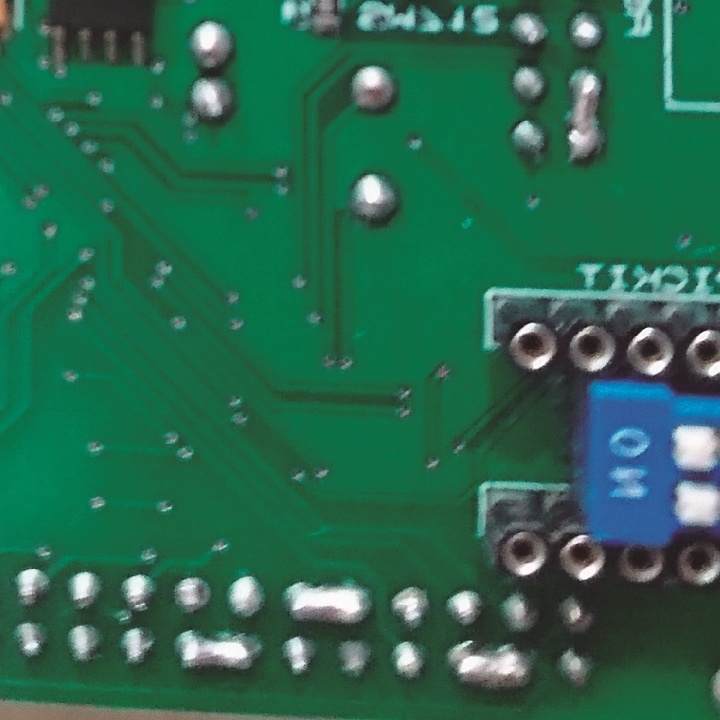F: (389, 581, 435, 629), (172, 572, 212, 616)
P: (283, 573, 373, 632), (563, 66, 606, 171), (173, 629, 264, 677), (450, 642, 531, 691)
